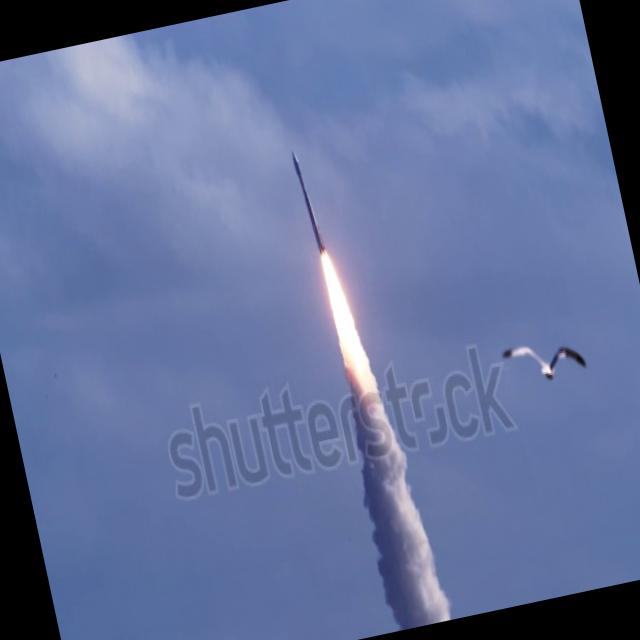rocket: (287, 132, 404, 489)
